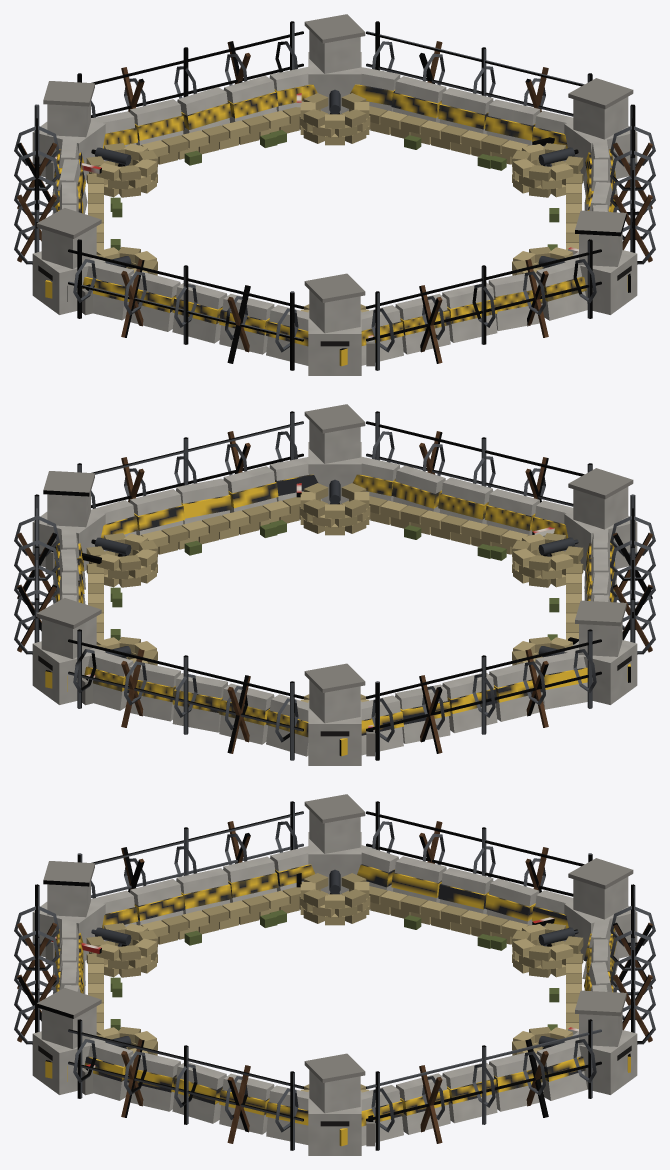
File: fort_l5.glb
The picture shows the model from 3 angles, top to bottom: view 1: azimuth 30°, elevation 25°; view 2: azimuth 150°, elevation 25°; view 3: azimuth 270°, elevation 25°; orthographic projection.
Parts seen in each view (by area): view 1: fort_l5; view 2: fort_l5; view 3: fort_l5.
Part boxes in pixels (<box>): fort_l5: <box>14,14,655,375</box>; fort_l5: <box>14,404,655,765</box>; fort_l5: <box>14,794,655,1155</box>.
Size of the model in its own units: 1.89 by 0.2447 by 1.8.
Materials: 1 (1 with a texture image).
